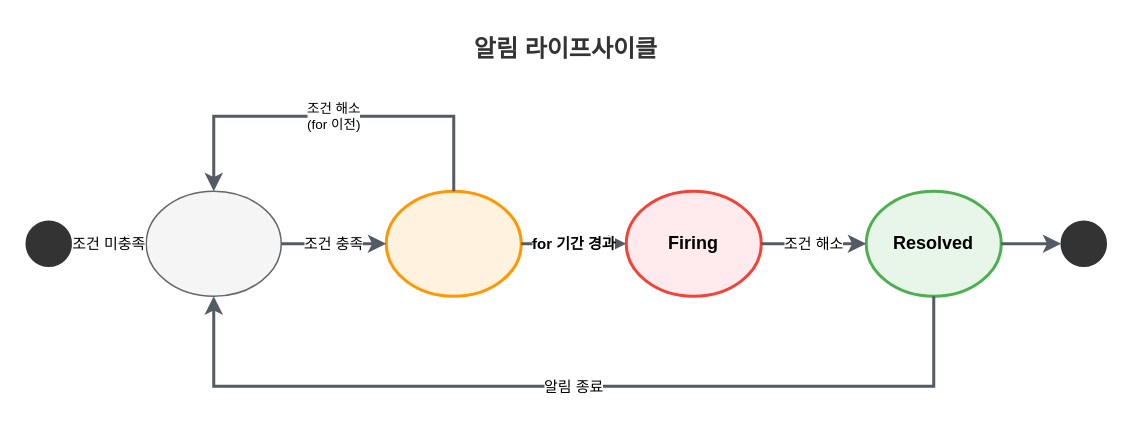
This 1133x425 diagram has some shape labels left out. Each missing label, with the centre of its shape:
"Inactive" goes at point 213,243.
"Pending" goes at point 453,243.
